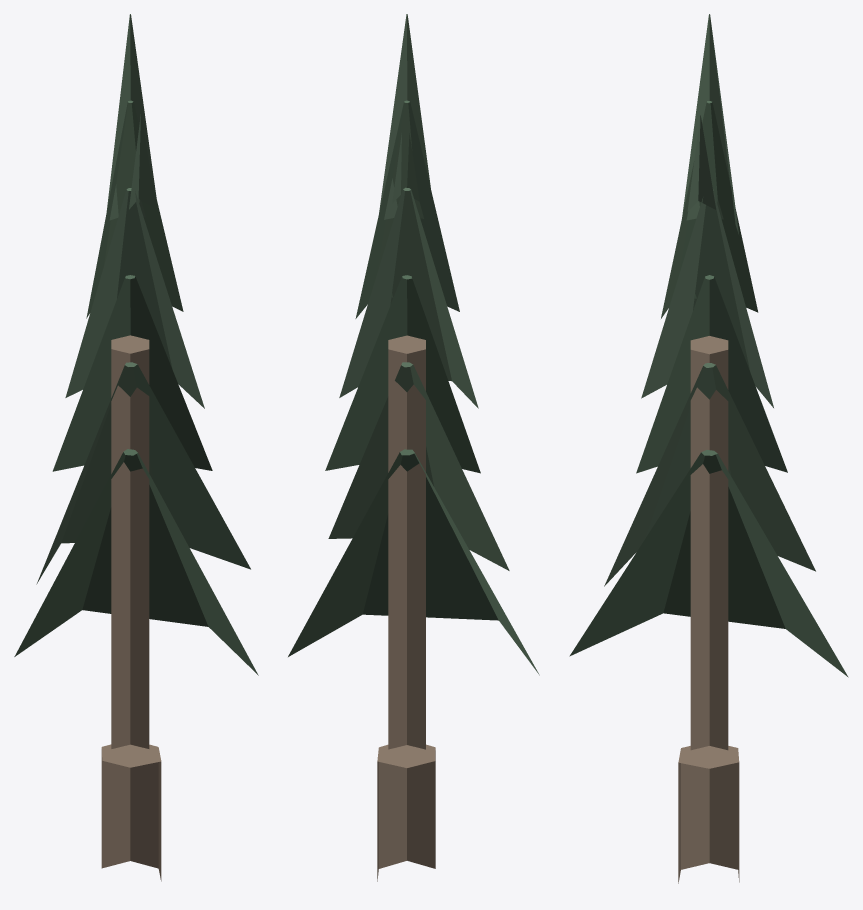
Rendered from shu.lengshan@fruiting__spring.glb.
3 views of the same model, side by side, from view 1: azimuth 30°, elevation 25°; view 2: azimuth 150°, elevation 25°; view 3: azimuth 270°, elevation 25° (orthographic).
Parts seen in each view (by area): view 1: shu.lengshan@fruiting__spring; view 2: shu.lengshan@fruiting__spring; view 3: shu.lengshan@fruiting__spring.
Part boxes in pixels (x1,y1,x2,y2): shu.lengshan@fruiting__spring: [14, 14, 258, 881]; shu.lengshan@fruiting__spring: [288, 14, 539, 881]; shu.lengshan@fruiting__spring: [569, 14, 848, 883].
Size of the model in its own units: 5.6 by 21.95 by 6.45.
